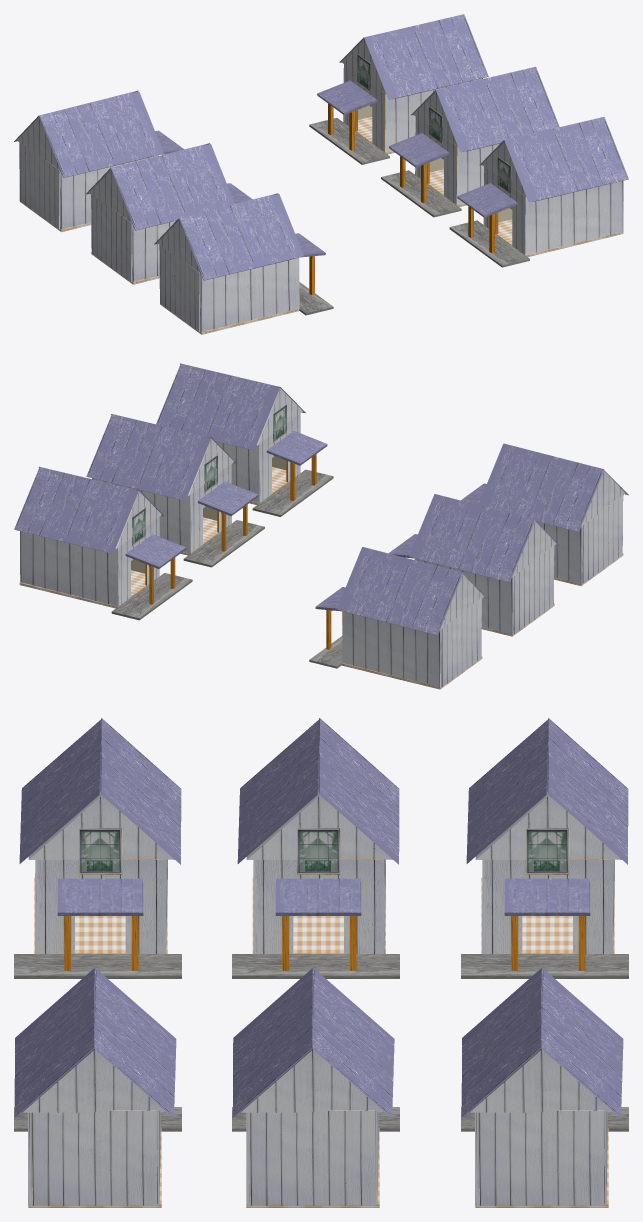
The model's file is Villas.obj.
3 renders of one model, top to bottom at view 1: azimuth 30°, elevation 25°; view 2: azimuth 150°, elevation 25°; view 3: azimuth 270°, elevation 25°, orthographic. The views are drawn at different scales.
Visible parts, largest first — view 1: fachada3:pCube18 group3, fachada8:pCube18 pasted__group3 group7, fachada4:pCube18 pasted__group3 group4, group7 fachada10:pCube18 pasted__pasted__group3 pasted__group, group7 fachada9:pCube18 pasted__pasted__group3 pasted__group4, fachada5:pCube18 pasted__group3 group; view 2: fachada4:pCube18 pasted__group3 group4, group7 fachada9:pCube18 pasted__pasted__group3 pasted__group4, group7 fachada10:pCube18 pasted__pasted__group3 pasted__group, fachada3:pCube18 group3, fachada5:pCube18 pasted__group3 group, fachada8:pCube18 pasted__group3 group7; view 3: fachada5:pCube18 pasted__group3 group, group7 fachada9:pCube18 pasted__pasted__group3 pasted__group4, fachada8:pCube18 pasted__group3 group7, fachada3:pCube18 group3, fachada4:pCube18 pasted__group3 group4, group7 fachada10:pCube18 pasted__pasted__group3 pasted__group.
Part boxes in pixels (x1,y1,x2,y2): fachada3:pCube18 group3: [449, 117, 628, 267]; fachada8:pCube18 pasted__group3 group7: [154, 193, 333, 334]; fachada4:pCube18 pasted__group3 group4: [309, 14, 488, 164]; group7 fachada10:pCube18 pasted__pasted__group3 pasted__group: [381, 66, 559, 217]; group7 fachada9:pCube18 pasted__pasted__group3 pasted__group4: [14, 90, 184, 232]; fachada5:pCube18 pasted__group3 group: [86, 143, 252, 284]; fachada4:pCube18 pasted__group3 group4: [14, 466, 192, 620]; group7 fachada9:pCube18 pasted__pasted__group3 pasted__group4: [309, 547, 487, 689]; group7 fachada10:pCube18 pasted__pasted__group3 pasted__group: [86, 414, 264, 567]; fachada3:pCube18 group3: [156, 363, 333, 516]; fachada5:pCube18 pasted__group3 group: [388, 494, 559, 636]; fachada8:pCube18 pasted__group3 group7: [461, 443, 628, 586]; fachada5:pCube18 pasted__group3 group: [232, 718, 399, 978]; group7 fachada9:pCube18 pasted__pasted__group3 pasted__group4: [461, 718, 628, 978]; fachada8:pCube18 pasted__group3 group7: [14, 718, 181, 978]; fachada3:pCube18 group3: [14, 968, 181, 1207]; fachada4:pCube18 pasted__group3 group4: [461, 968, 628, 1207]; group7 fachada10:pCube18 pasted__pasted__group3 pasted__group: [232, 968, 399, 1207].
Size of the model in its own units: 57.41 by 13.27 by 45.24.
Materials: 139 (133 with a texture image).
